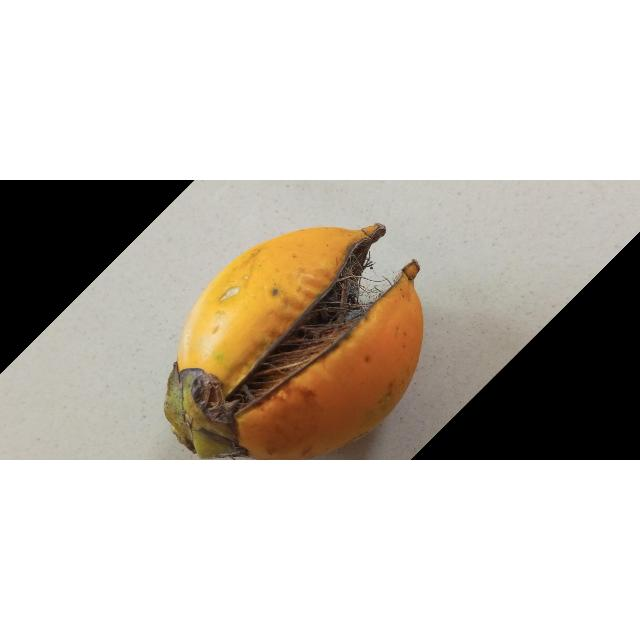damaged: (165, 225, 424, 461)
